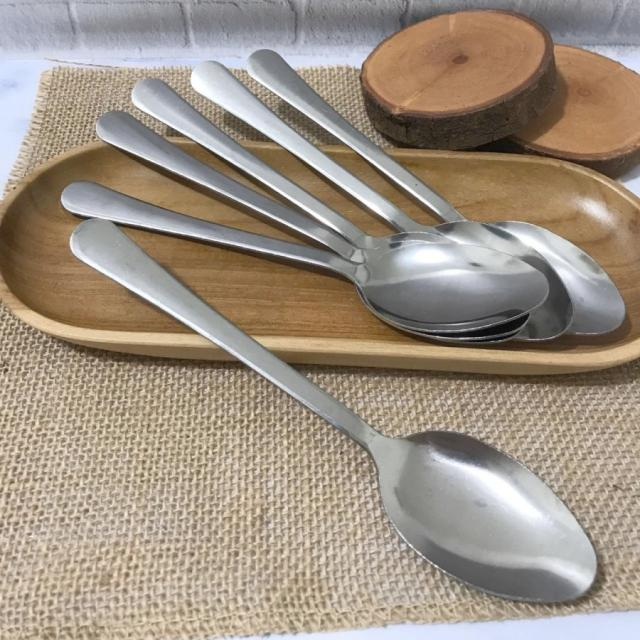spoon: (62, 216, 610, 626)
